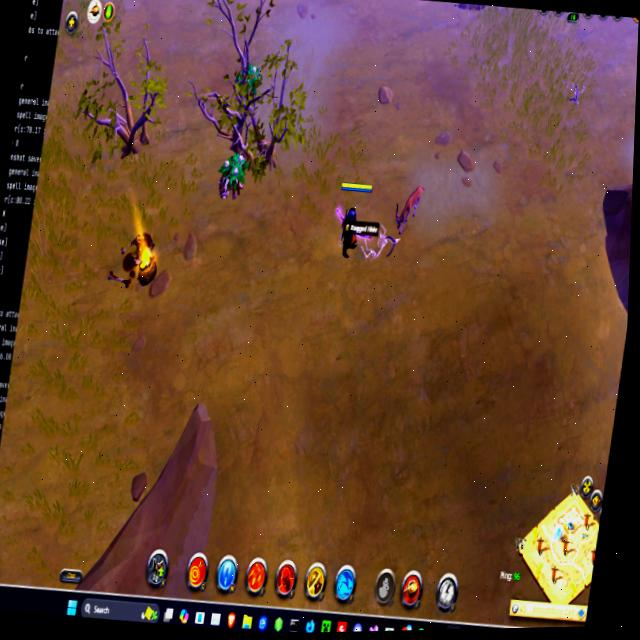hide: (215, 146, 250, 206), (239, 59, 264, 98)
mob: (449, 2, 488, 19)
ore: (390, 180, 428, 240)
red: (326, 176, 374, 265)
